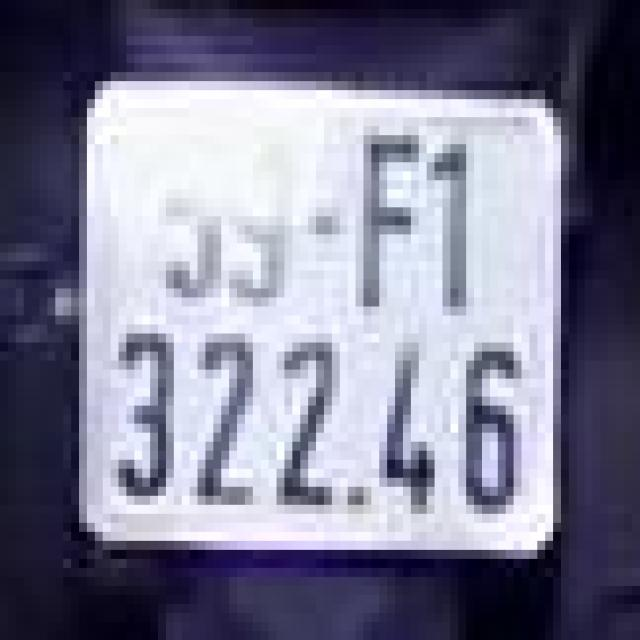1: (431, 131, 478, 320)
2: (190, 320, 260, 518), (272, 324, 336, 523)
3: (102, 315, 182, 523)
4: (376, 324, 438, 523)
5: (142, 135, 229, 307)
6: (458, 329, 530, 527)
9: (233, 117, 304, 316)
F: (356, 117, 426, 307)
